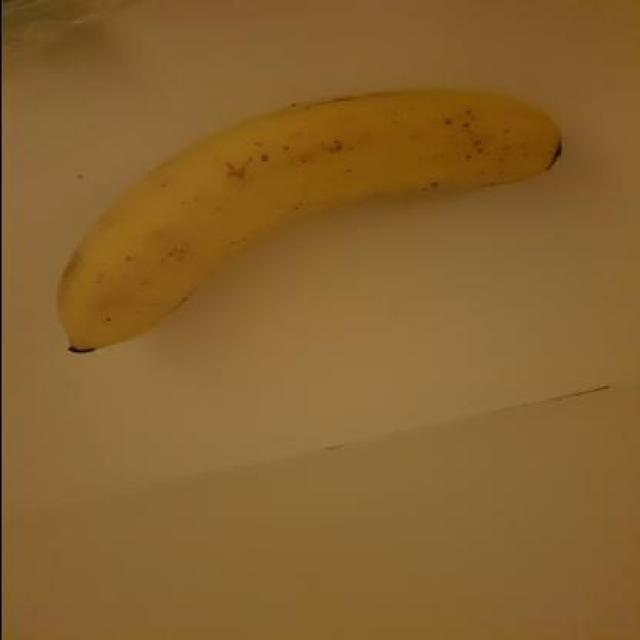Banana: (49, 82, 568, 358)
